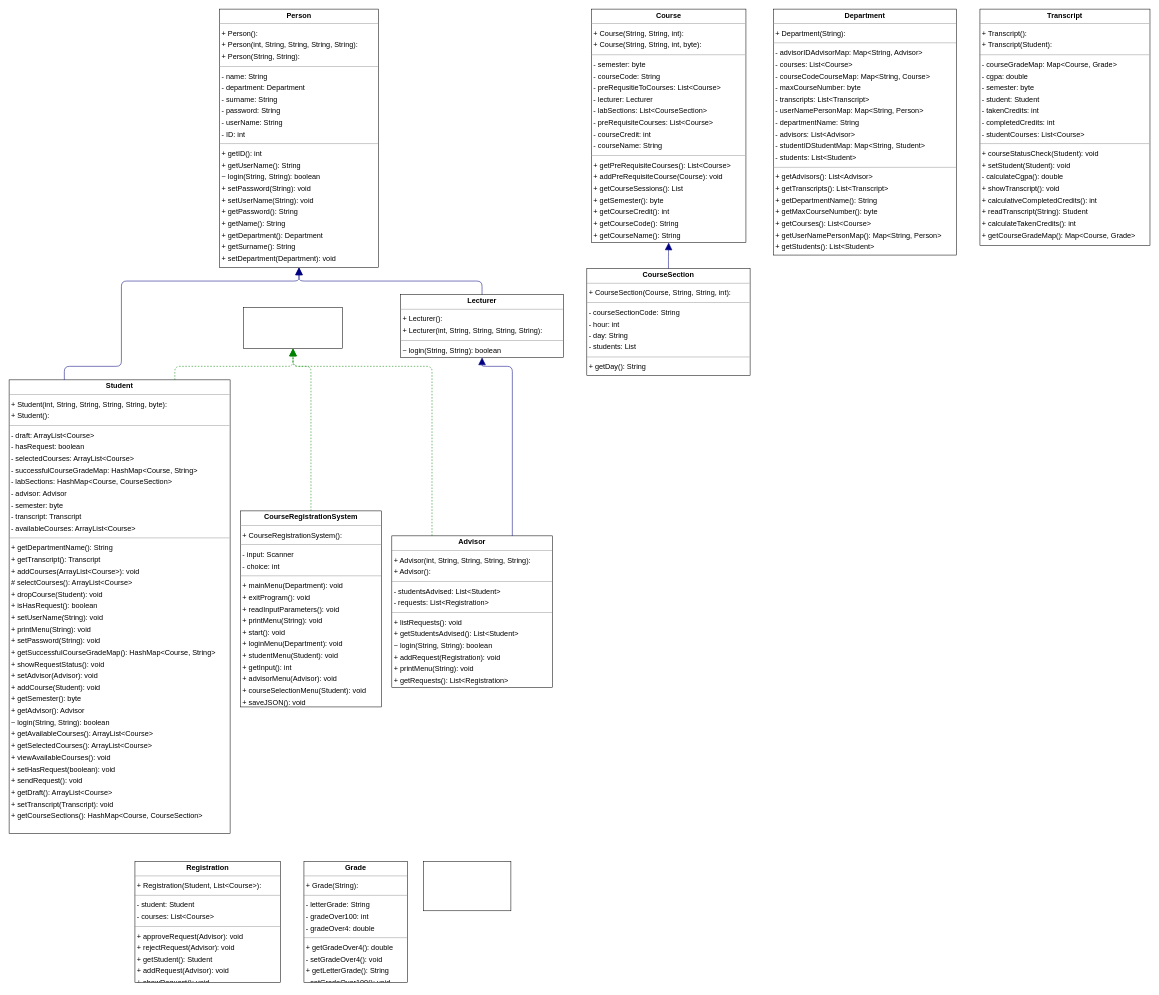
Some shapes in this 1159 by 995 pixel diagram are drawn without their labels. The centre of each missing label's shape, as x and y in pixels:
"<<interface>> IDisplayMenu + printMenu(String): void" belongs at (x=292, y=328).
"main + main(): + main(String[]): void" belongs at (x=467, y=886).
